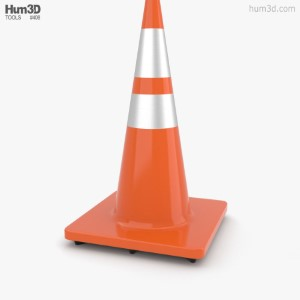traffic cone: (65, 1, 226, 258)
